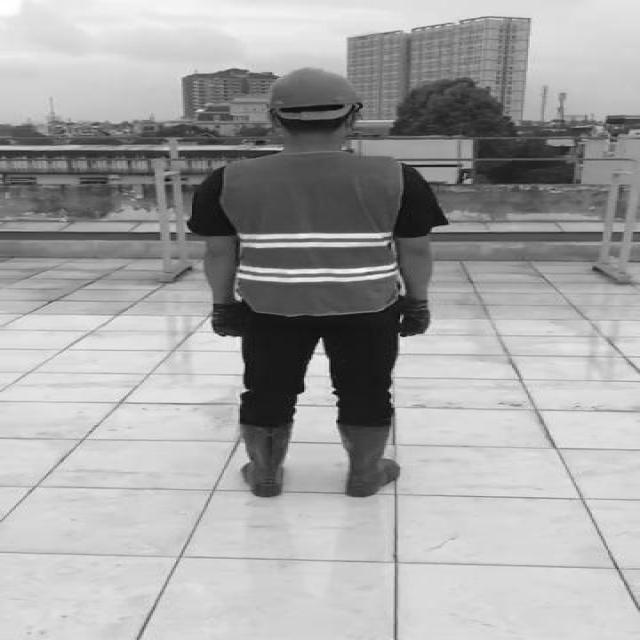boots: (234, 419, 300, 500), (336, 421, 402, 499)
hand_glove: (394, 302, 442, 339), (204, 306, 239, 340)
head_helmet: (262, 64, 371, 112)
person: (191, 64, 451, 501)
vest: (224, 156, 398, 312)
